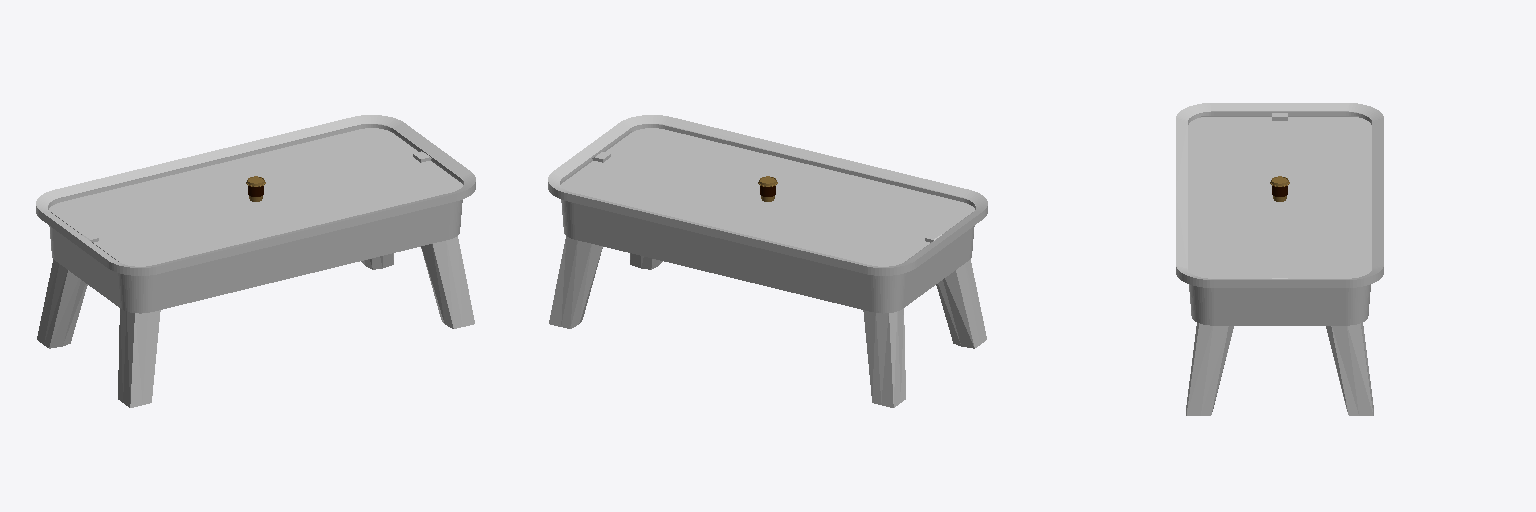
The model's file is hockey_table_1.obj.
3 views of the same model, side by side, from view 1: azimuth 30°, elevation 25°; view 2: azimuth 150°, elevation 25°; view 3: azimuth 270°, elevation 25° (orthographic).
Parts seen in each view (by area): view 1: GEO_airhockeytable_Plane, GEO_base_game_plane_Plane.001; view 2: GEO_airhockeytable_Plane, GEO_base_game_plane_Plane.001; view 3: GEO_base_game_plane_Plane.001, GEO_airhockeytable_Plane.
Boxes of the visible parts, x1,y1,x2,y2 form: GEO_airhockeytable_Plane: [36, 115, 475, 407]; GEO_base_game_plane_Plane.001: [49, 128, 462, 266]; GEO_airhockeytable_Plane: [548, 115, 987, 407]; GEO_base_game_plane_Plane.001: [561, 128, 974, 266]; GEO_base_game_plane_Plane.001: [1188, 116, 1371, 278]; GEO_airhockeytable_Plane: [1176, 103, 1383, 415].
Size of the model in its own units: 31.8 by 12.7 by 15.8.